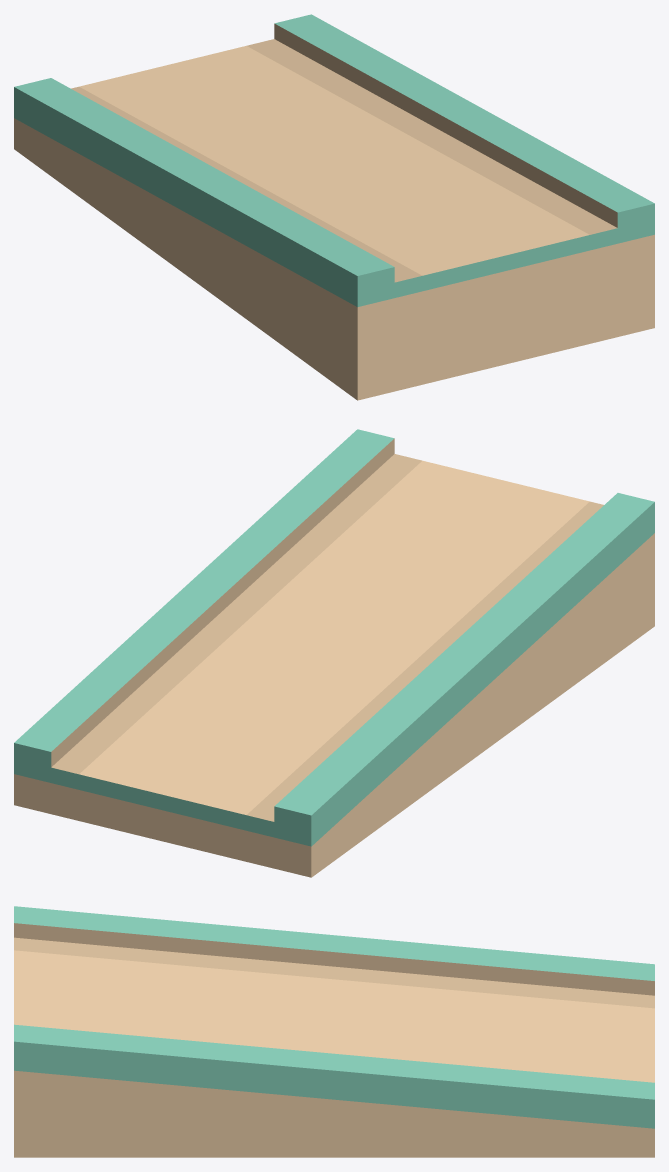
File: tile_straightHillLarge.glb
3 views of the same model, one above another, from view 1: azimuth 30°, elevation 25°; view 2: azimuth 150°, elevation 25°; view 3: azimuth 270°, elevation 25° (orthographic). The views are drawn at different scales.
Visible parts, largest first — view 1: tile_straightHillLarge; view 2: tile_straightHillLarge; view 3: tile_straightHillLarge.
Boxes of the visible parts, box(x1,y1,x2,y2) form: tile_straightHillLarge: box(14, 14, 654, 400); tile_straightHillLarge: box(14, 429, 654, 877); tile_straightHillLarge: box(14, 906, 654, 1157).
Bounding box in the file's own units: 1 × 0.4 × 2.
